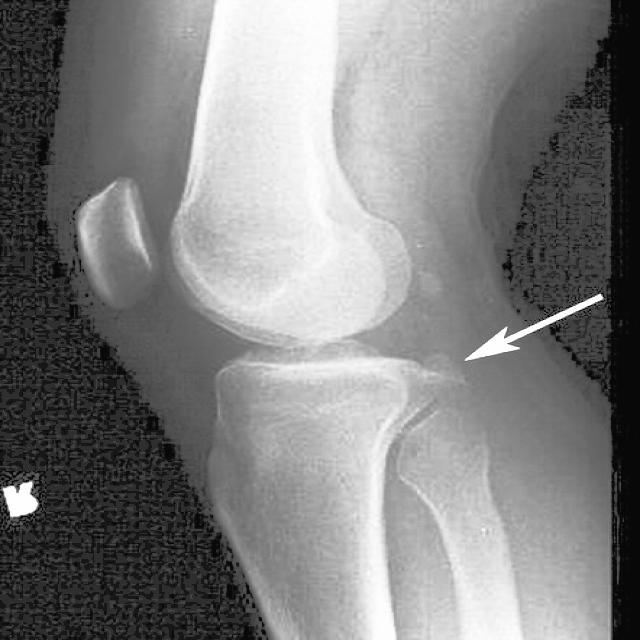Avlusion Fracture: (414, 345, 466, 398)
